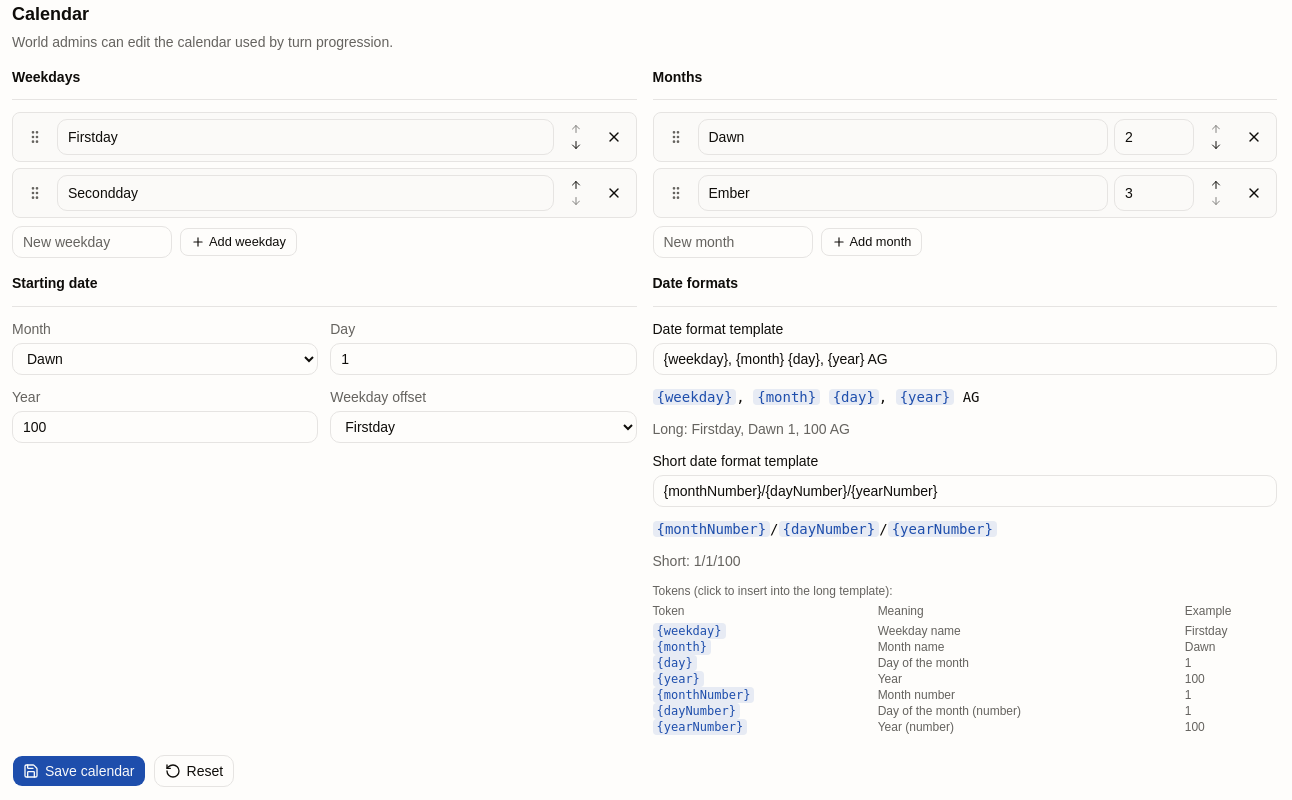
Test: WorldCalendarConfigPanel › blocks save and exposes an accessible error when weekdays are empty
The width and height of the screenshot is (1292, 800).
Expected: the heading "Calendar" is shown, [12,4,89,24]
Click the button named "Remove weekdays 1". click: (614, 137)
box: [598,121,630,153]
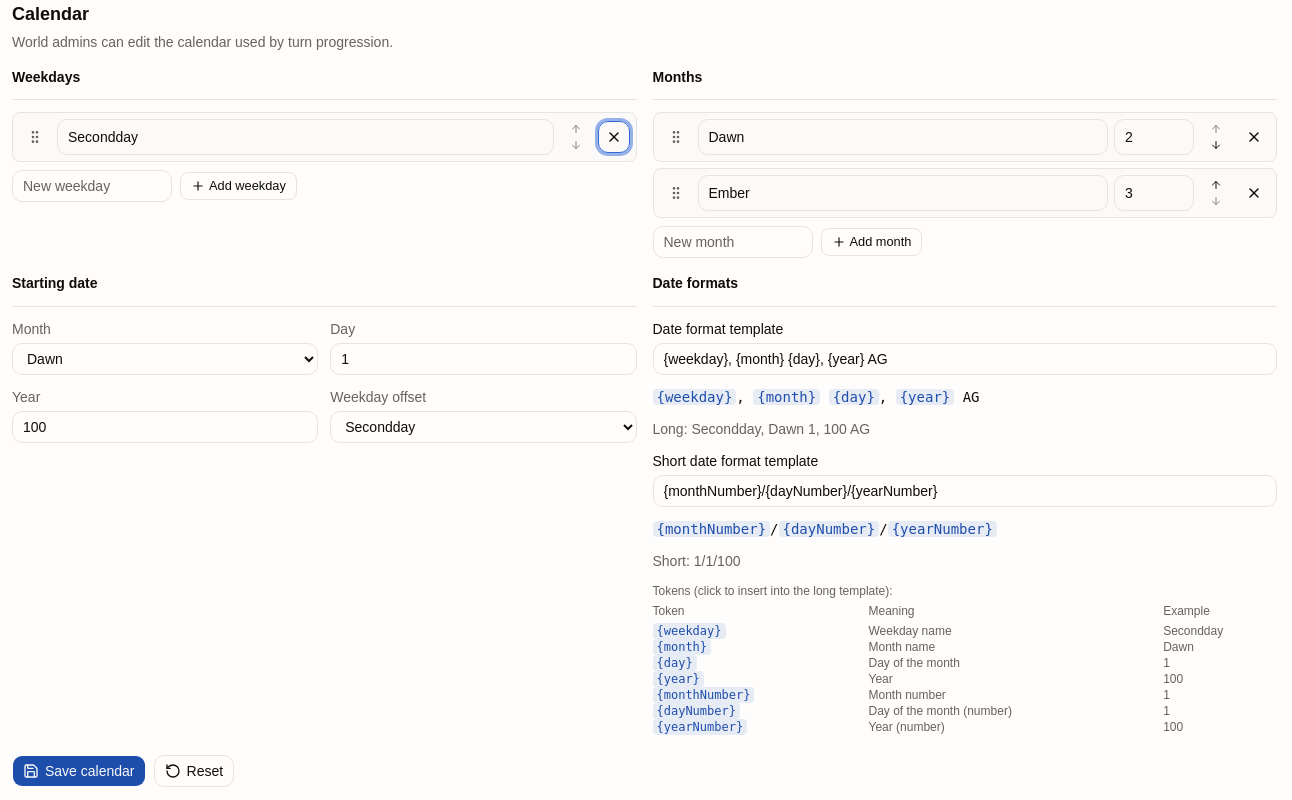
Click the button named "Remove weekdays 1". click: (614, 137)
box: [598,121,630,153]
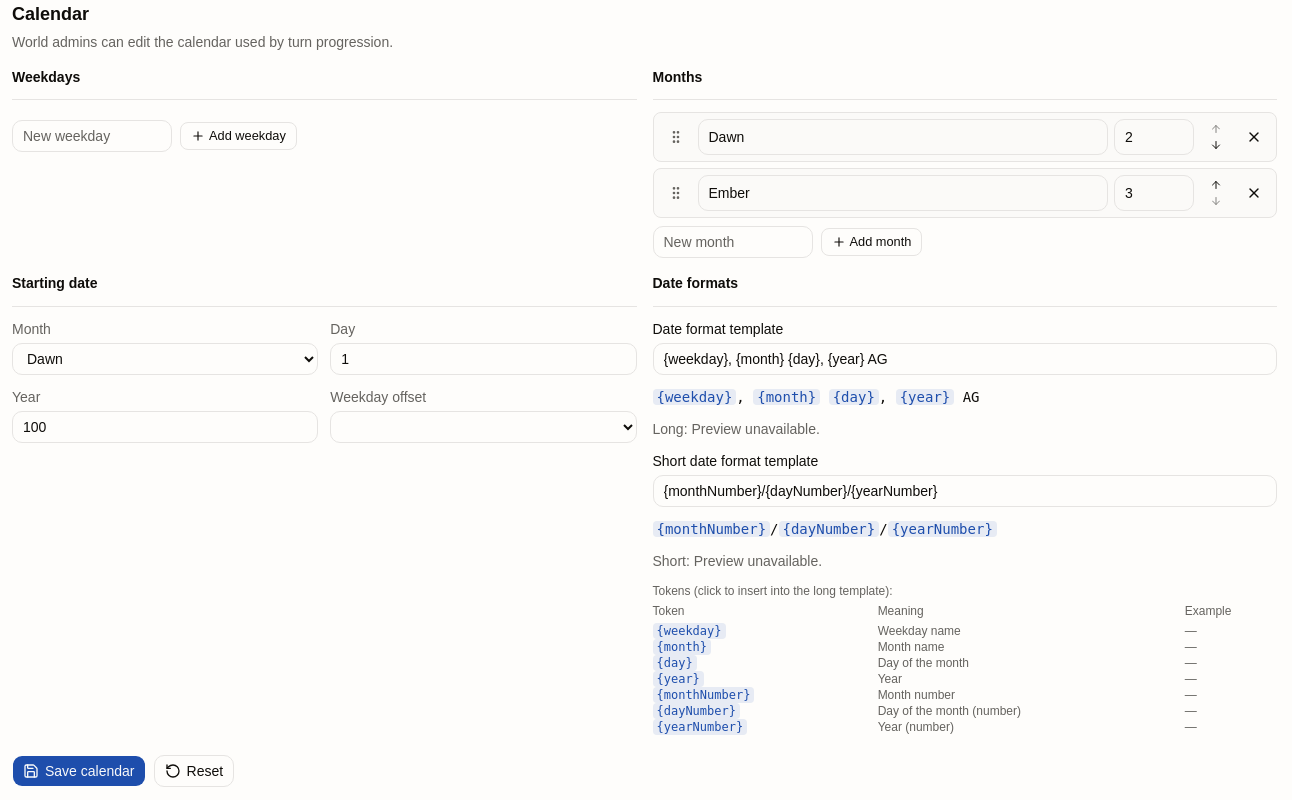
Click the button "Save calendar". click: (79, 770)
box: [12,754,146,786]
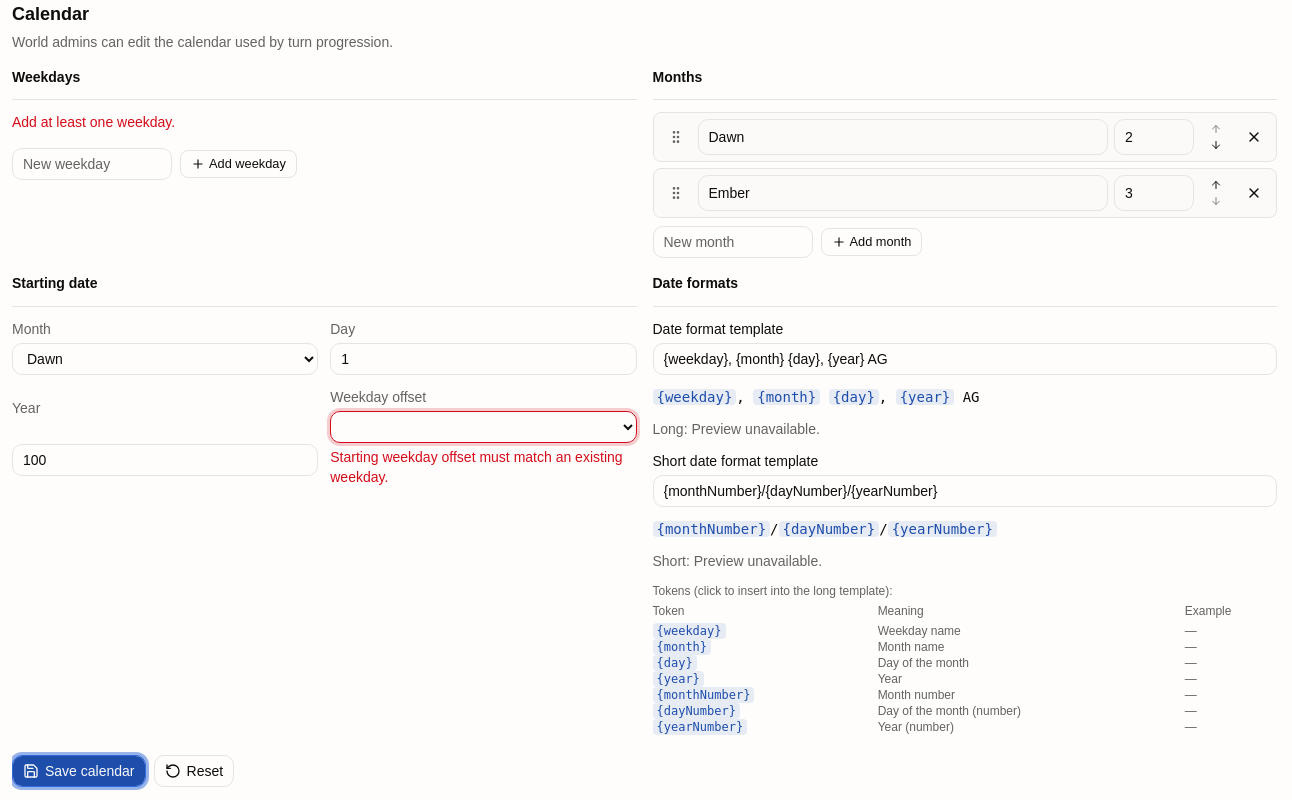
Expected: the text "Add at least one weekday." is shown, [12,114,175,130]
